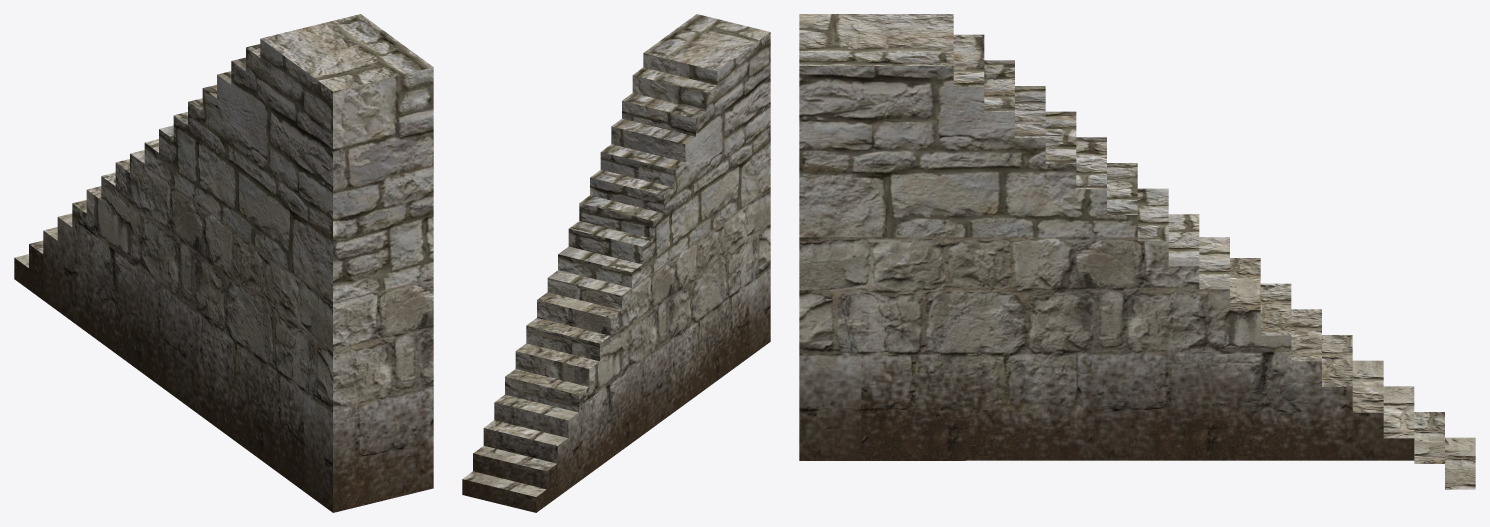
3 views of the same model, side by side, from view 1: azimuth 30°, elevation 25°; view 2: azimuth 150°, elevation 25°; view 3: azimuth 270°, elevation 25° (orthographic). The views are drawn at different scales.
Visible parts, largest first — view 1: Asset3DLoader.sceneRoot; view 2: Asset3DLoader.sceneRoot; view 3: Asset3DLoader.sceneRoot.
Part boxes in pixels (box(x1,y1,x2,y2)): Asset3DLoader.sceneRoot: box(14, 14, 433, 512); Asset3DLoader.sceneRoot: box(462, 14, 770, 512); Asset3DLoader.sceneRoot: box(799, 14, 1475, 489).
Size of the model in its own units: 0.4553 by 1.82 by 2.5.
2 materials, 2 textured.
